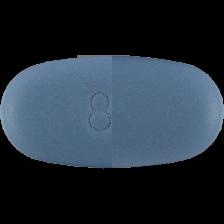0006-0081: (0, 0, 224, 224)
